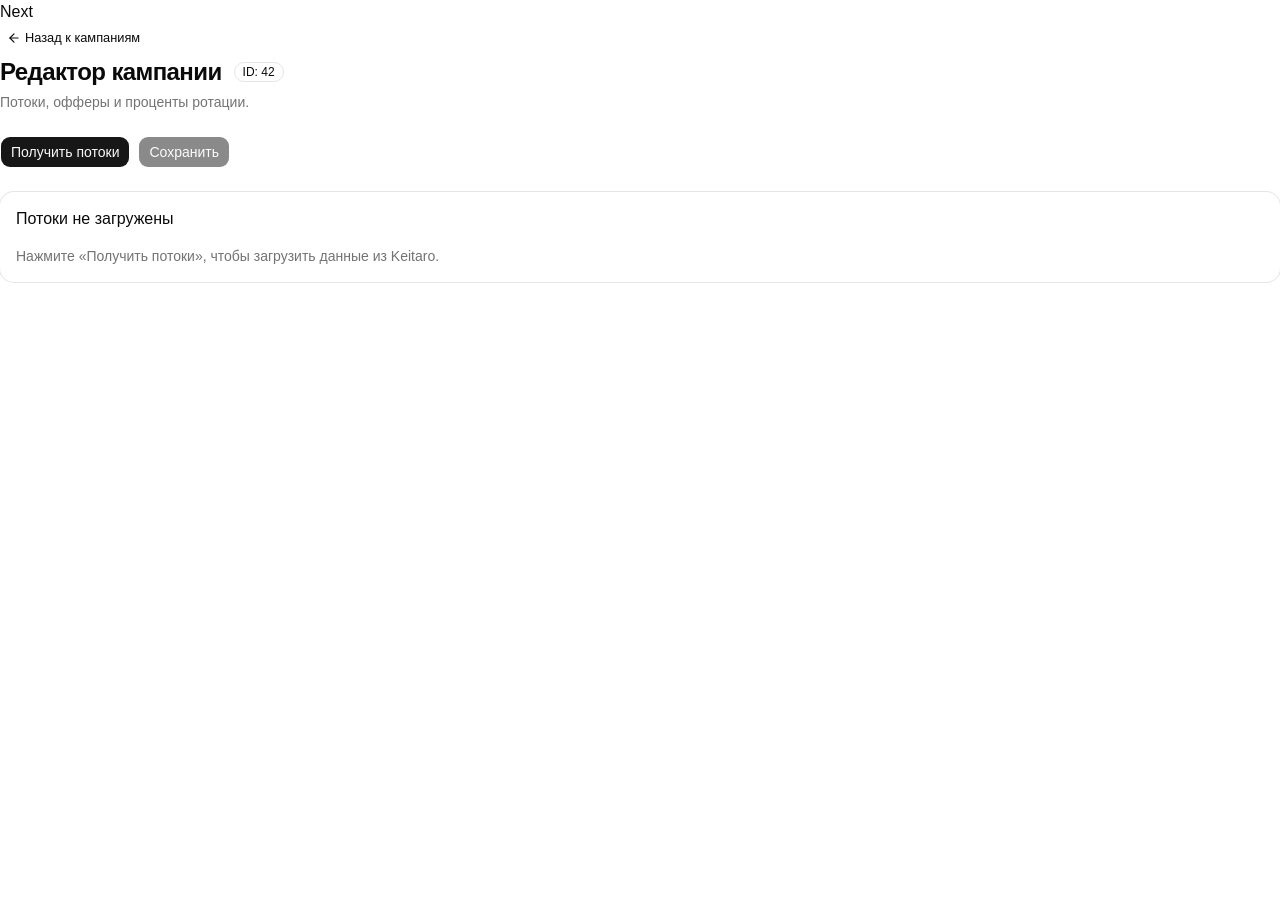
Test: CampaignEditPage › filters the per-flow picker locally, excludes deleted offers, and applies the add response
The width and height of the screenshot is (1280, 900).
Click the button "Получить потоки" at coordinates (65, 152), box [0, 136, 130, 168]
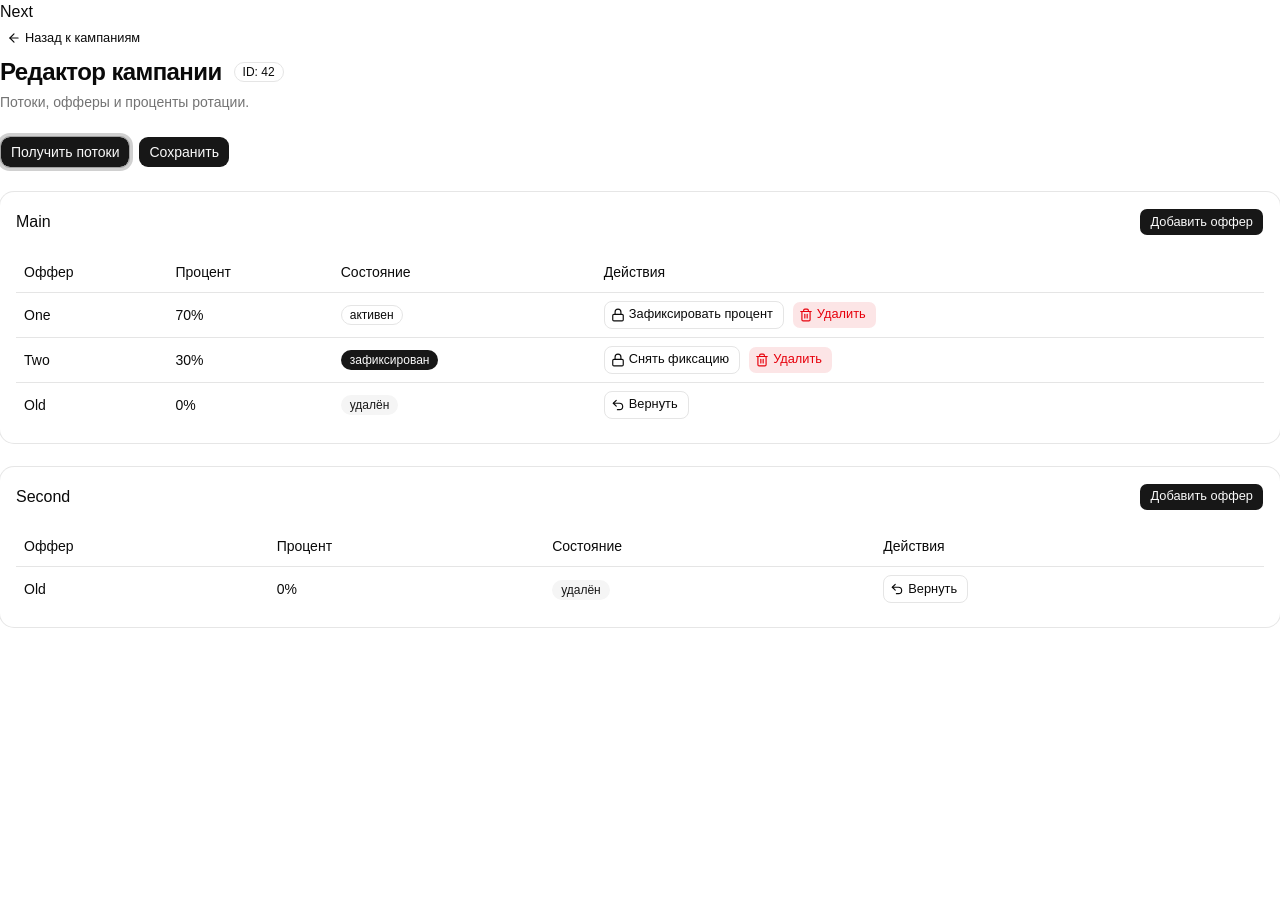
Expected: the text "Second" is shown, [16, 486, 70, 508]
Click the button "Добавить оффер" in the row of "Main" at coordinates (1202, 222), box [1140, 208, 1264, 236]
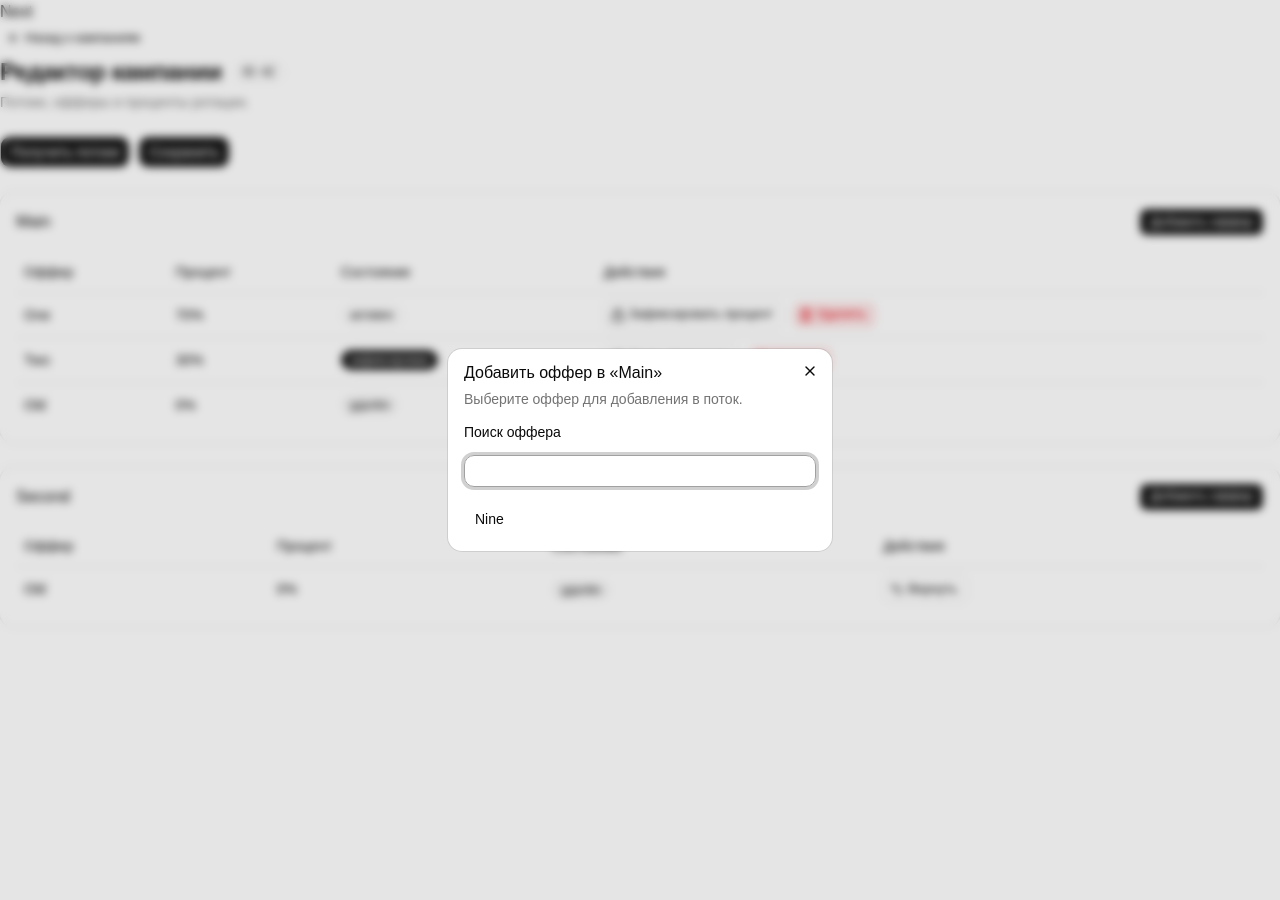
Expected: the button "Nine" is shown, [464, 503, 816, 535]
Press Escape
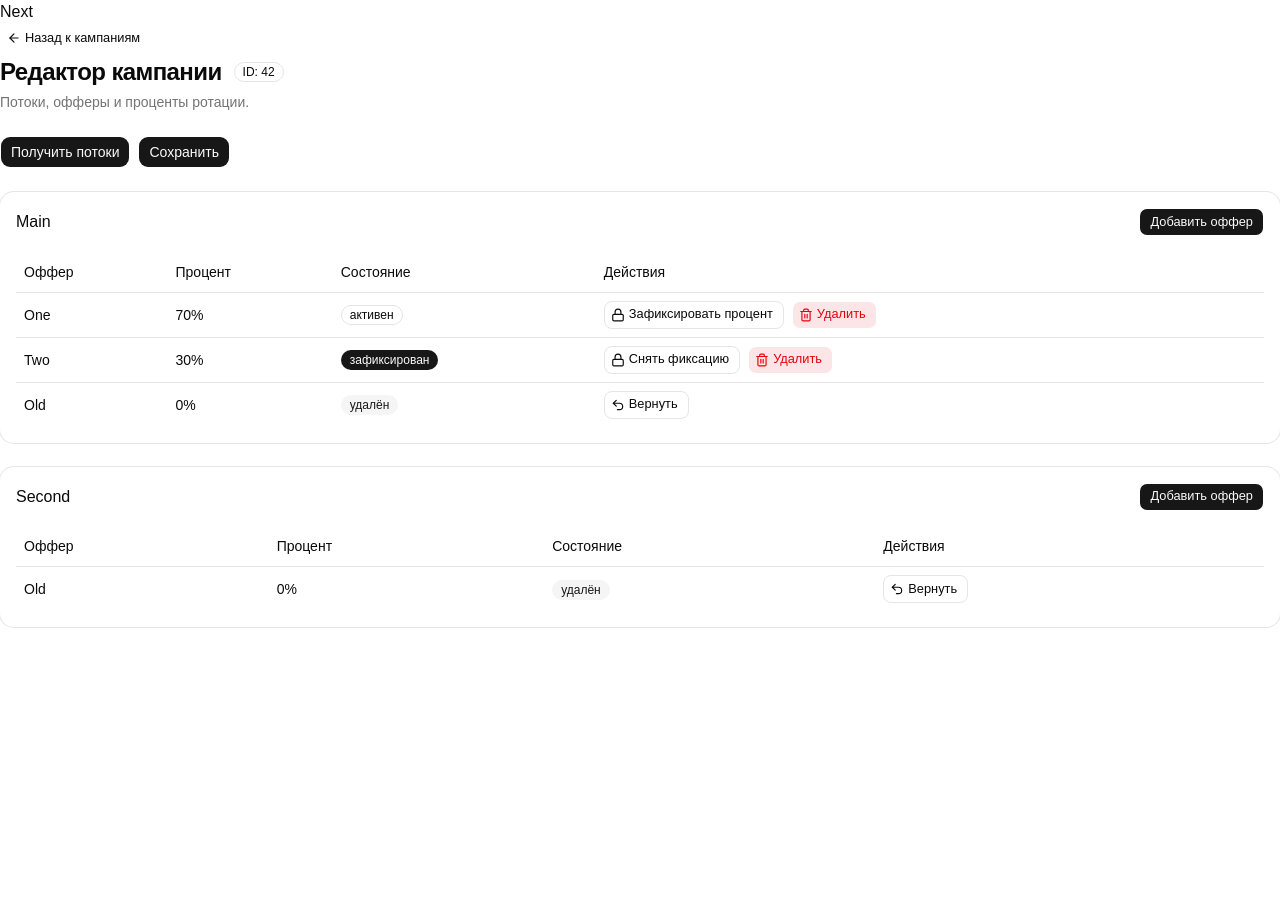
Click the button "Добавить оффер" in the row of "Second" at coordinates (1202, 496), box [1140, 482, 1264, 510]
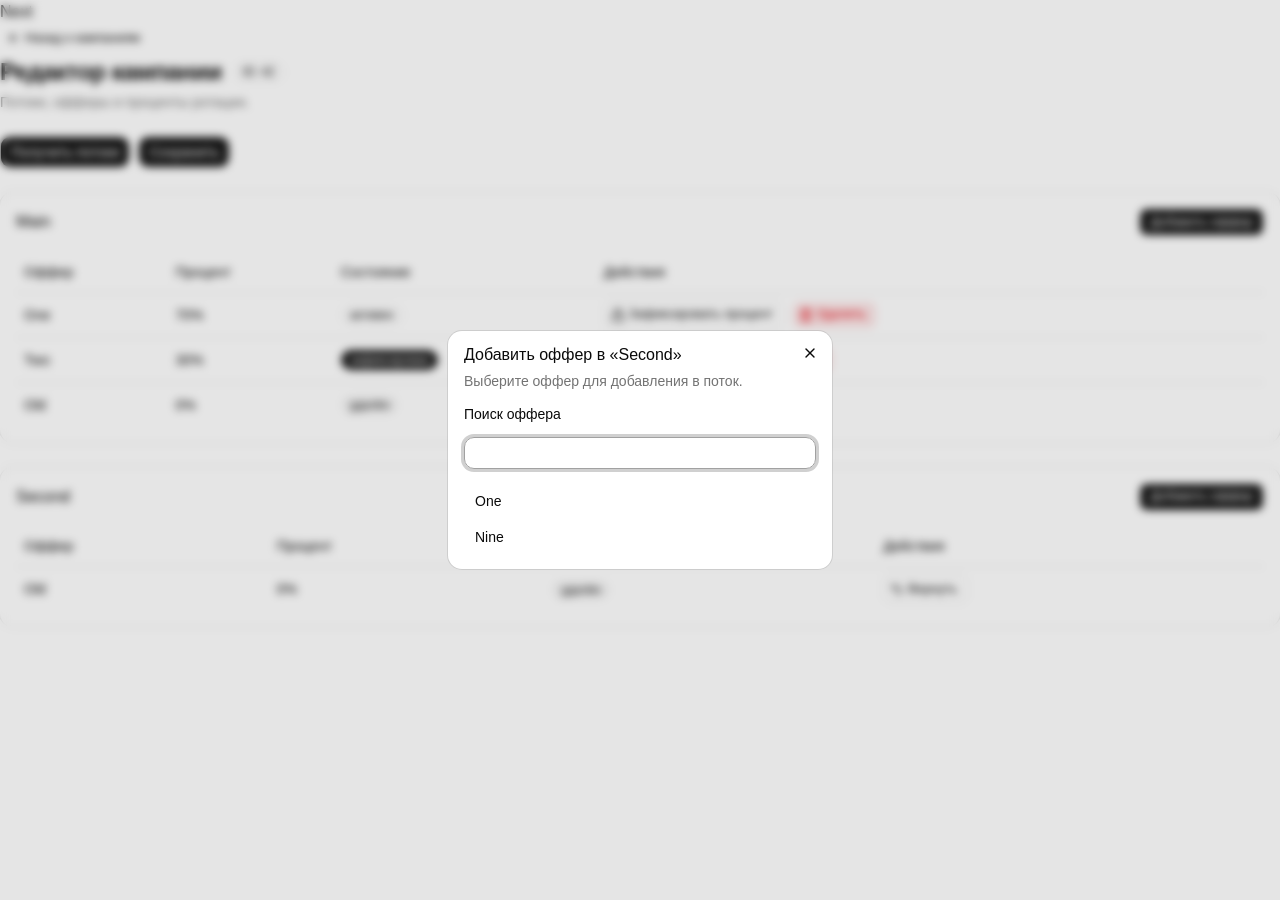
Expected: the button "One" is shown, [464, 485, 816, 517]
Type " NIN " into the field labelled "Поиск оффера" at coordinates (640, 453), box [464, 437, 816, 469]
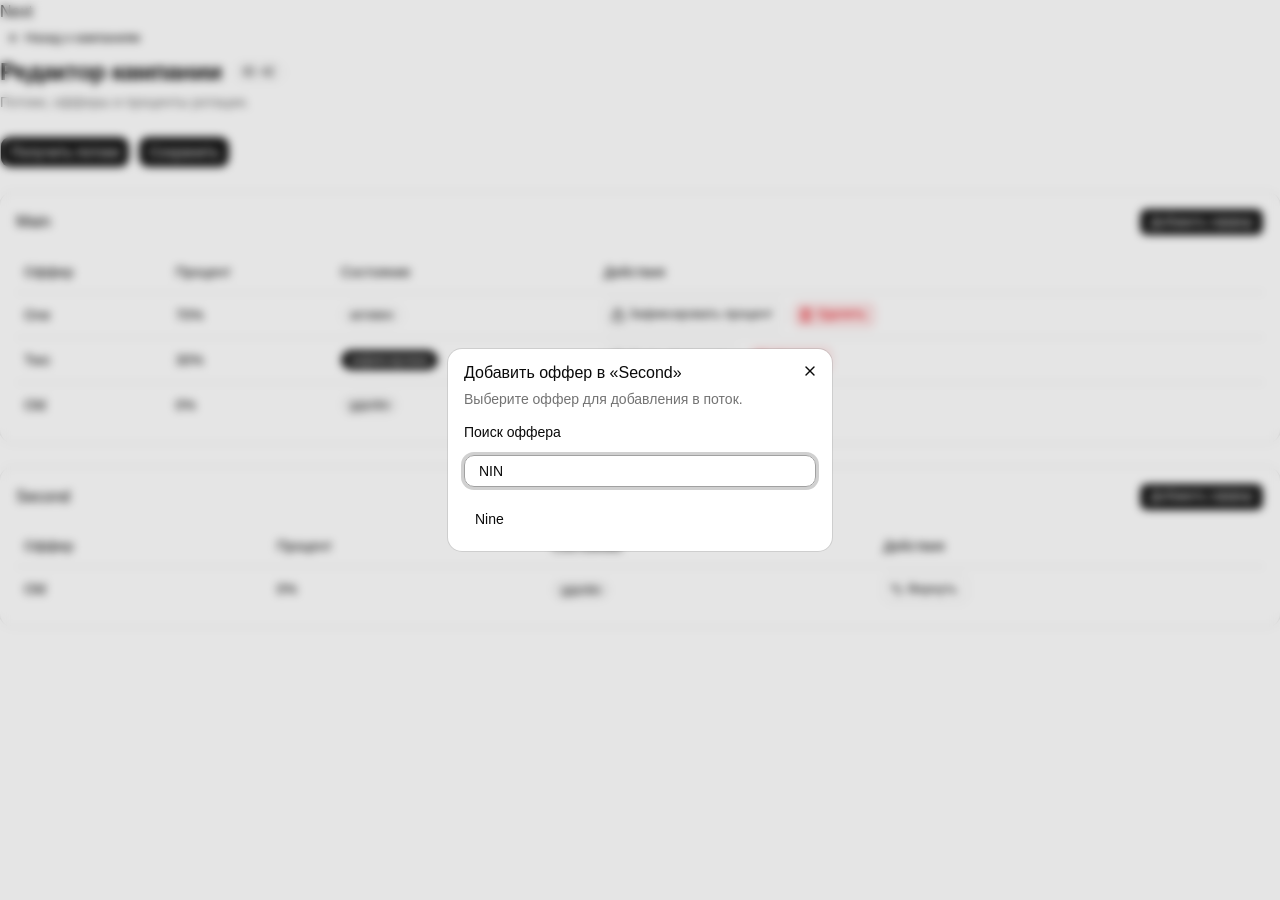
Click the button "Nine" at coordinates (489, 519), box [464, 503, 816, 535]
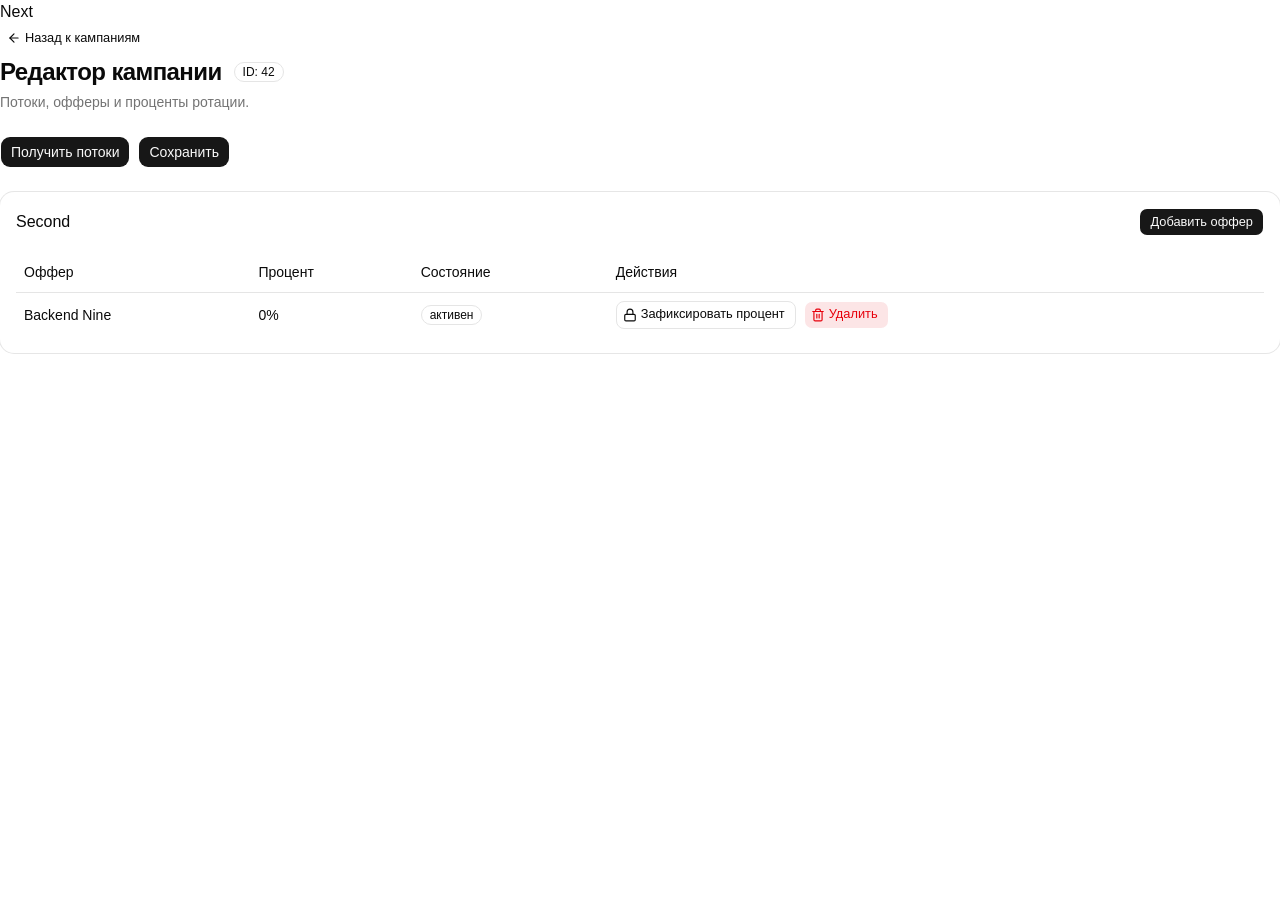
Expected: the text "0%" is shown, [250, 292, 413, 336]
Expected: the text "активен" is shown, [421, 305, 482, 325]
Expected: the text "Backend Nine" is shown, [16, 292, 250, 336]
